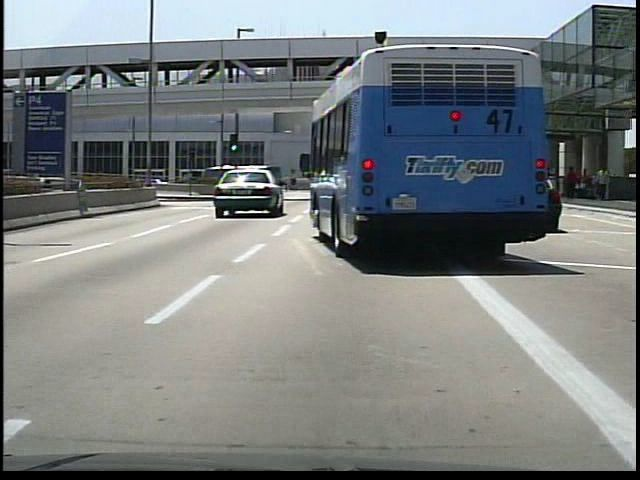person: (595, 166, 613, 199), (565, 163, 578, 200), (580, 168, 592, 200), (281, 173, 292, 191), (289, 174, 299, 193)
